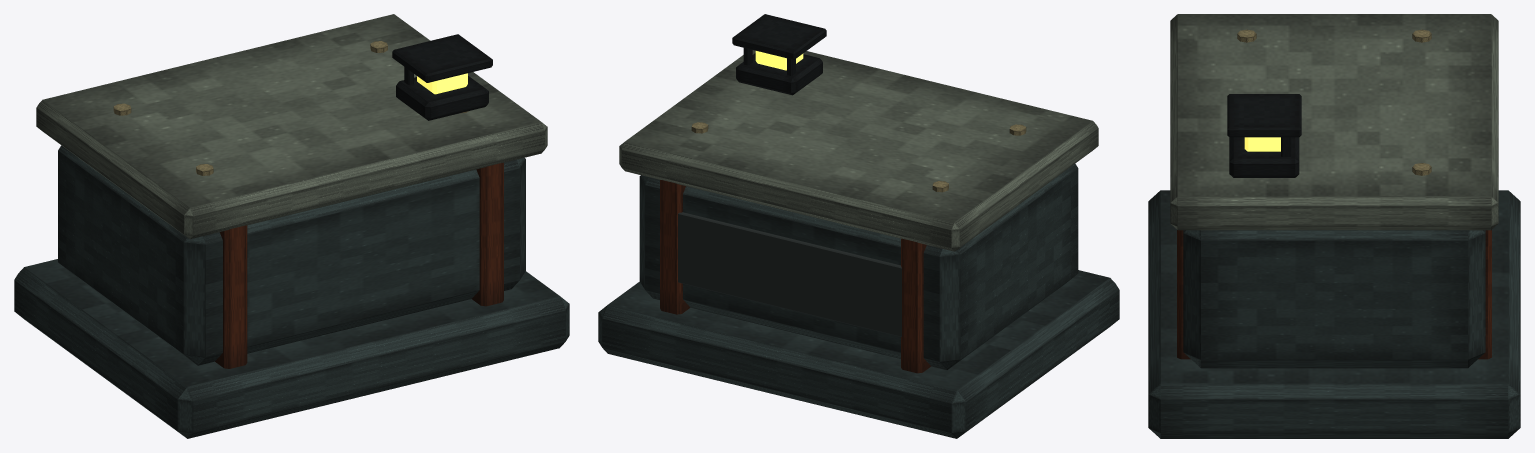
Rendered from THStage_Bay_05_Reliquary.fbx.
3 views of the same model, side by side, from view 1: azimuth 30°, elevation 25°; view 2: azimuth 150°, elevation 25°; view 3: azimuth 270°, elevation 25° (orthographic). The views are drawn at different scales.
Visible parts, largest first — view 1: THStage_Bay_05_Reliquary.010; view 2: THStage_Bay_05_Reliquary.010; view 3: THStage_Bay_05_Reliquary.010.
Part boxes in pixels (<box>): THStage_Bay_05_Reliquary.010: <box>14,14,569,438</box>; THStage_Bay_05_Reliquary.010: <box>598,14,1119,438</box>; THStage_Bay_05_Reliquary.010: <box>1148,14,1520,438</box>.
Bounding box in the file's own units: 1.1 × 0.7375 × 0.85.
Materials: 3 (1 with a texture image).
